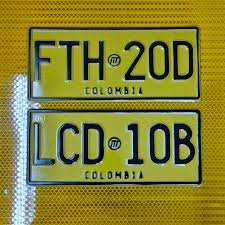number plate: (0, 0, 224, 224), (28, 110, 200, 184), (29, 28, 197, 98)
